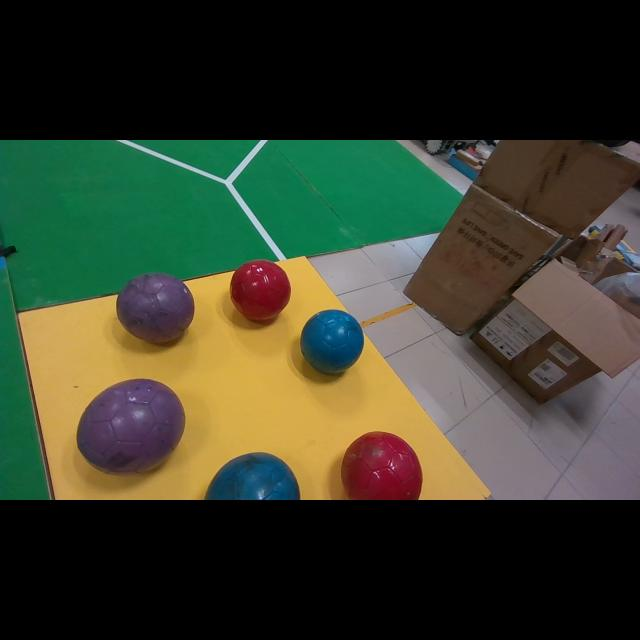B: (205, 452, 300, 500), (300, 309, 364, 373)
R: (116, 272, 195, 342), (341, 431, 422, 499), (230, 260, 291, 322)
